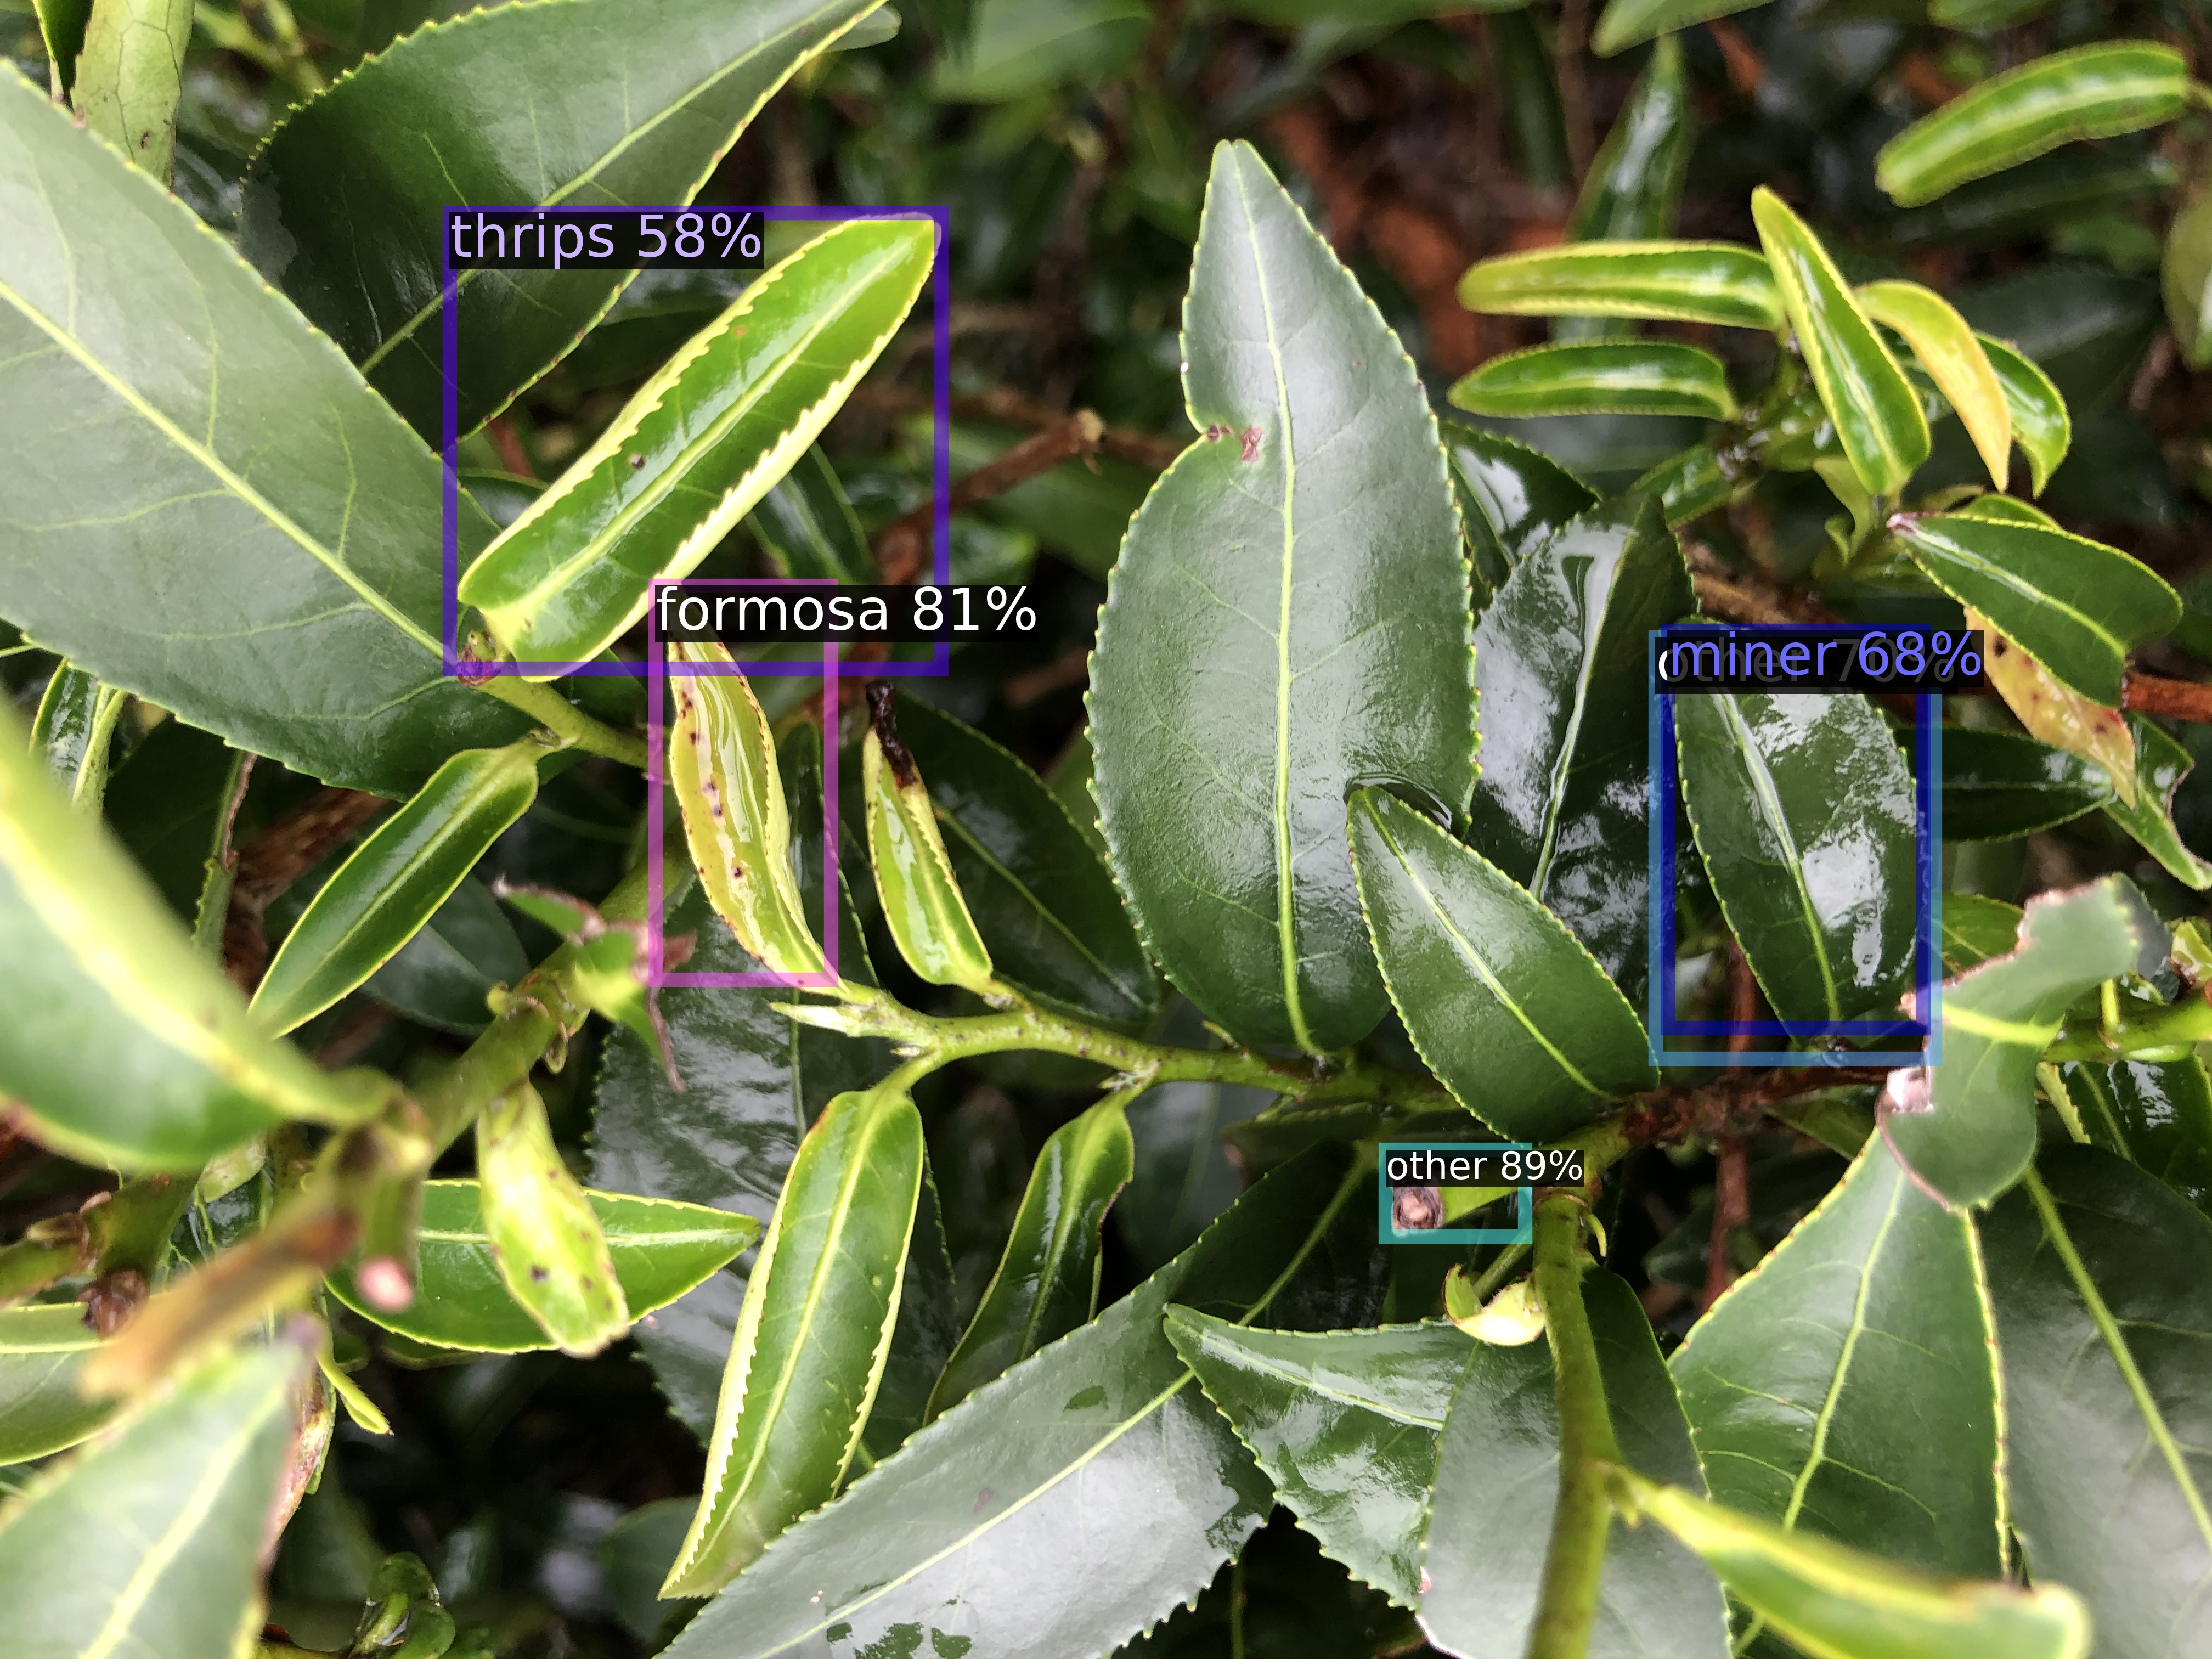formosa: (655, 586, 831, 979)
miner: (1669, 631, 1923, 1028)
other: (1656, 638, 1935, 1060), (1386, 1150, 1526, 1236)
thrips: (449, 213, 941, 669)
